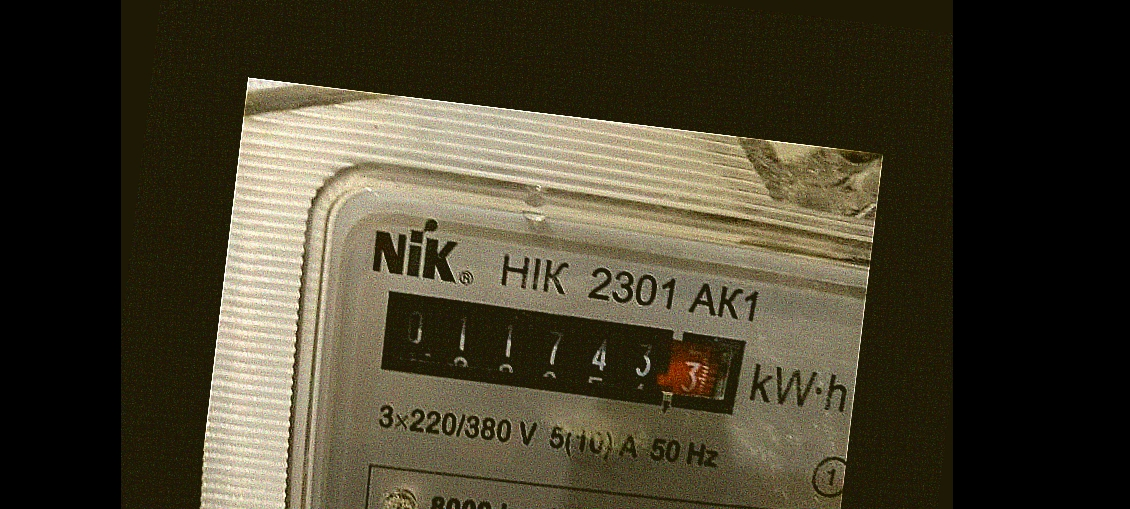0: (402, 306, 428, 348), (451, 311, 474, 354)
1: (498, 318, 519, 361)
3: (631, 337, 656, 382), (678, 356, 702, 396)
4: (587, 332, 612, 374)
7: (540, 323, 568, 369)
screen: (358, 275, 756, 427)
